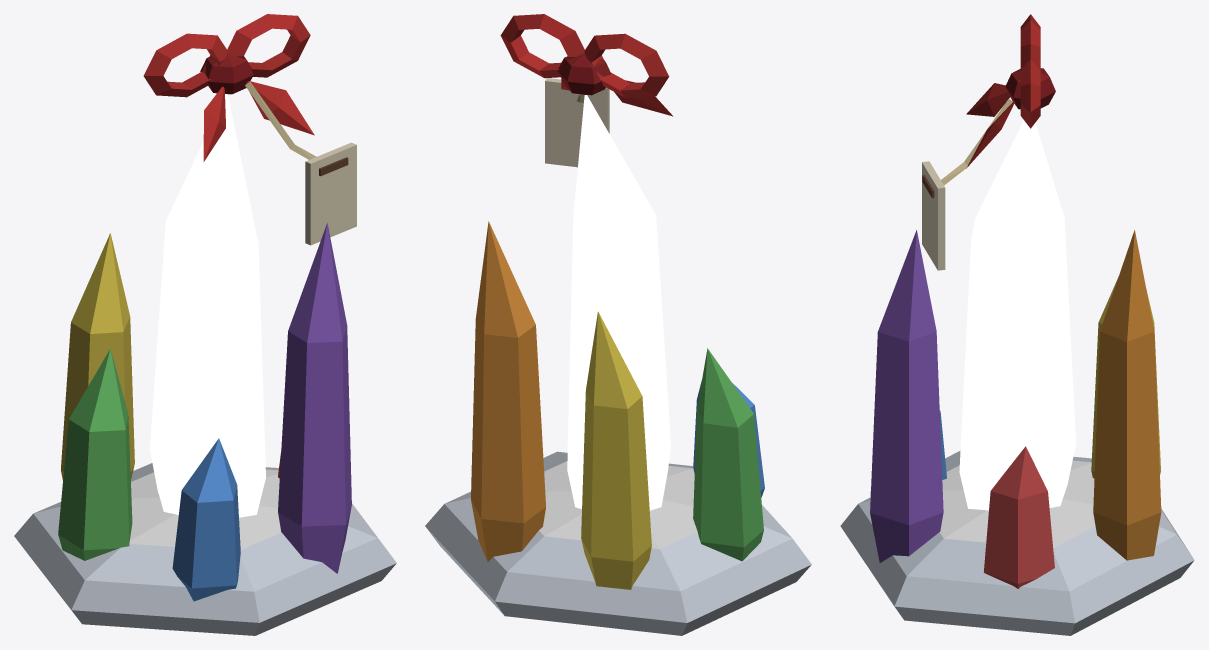
The model's file is quest_rainbow_crystal.glb.
3 renders of one model, left to right at view 1: azimuth 30°, elevation 25°; view 2: azimuth 150°, elevation 25°; view 3: azimuth 270°, elevation 25°, orthographic.
Parts seen in each view (by area): view 1: quest_rainbow_crystal; view 2: quest_rainbow_crystal; view 3: quest_rainbow_crystal.
Boxes of the visible parts, x1,y1,x2,y2 form: quest_rainbow_crystal: (14,14,396,635); quest_rainbow_crystal: (425,14,811,635); quest_rainbow_crystal: (840,14,1194,635).
Bounding box in the file's own units: 0.2931 × 0.4573 × 0.2739.
